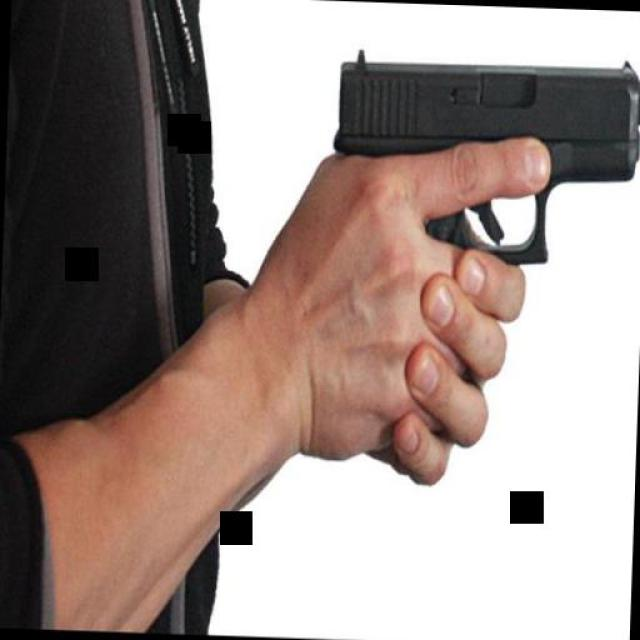gun: (325, 36, 640, 268)
